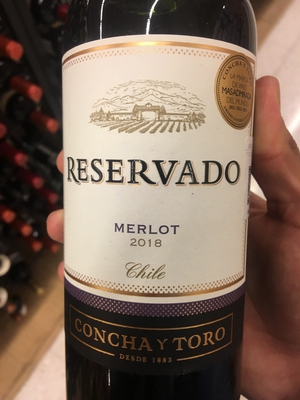reservado merlot: (63, 6, 251, 379)
